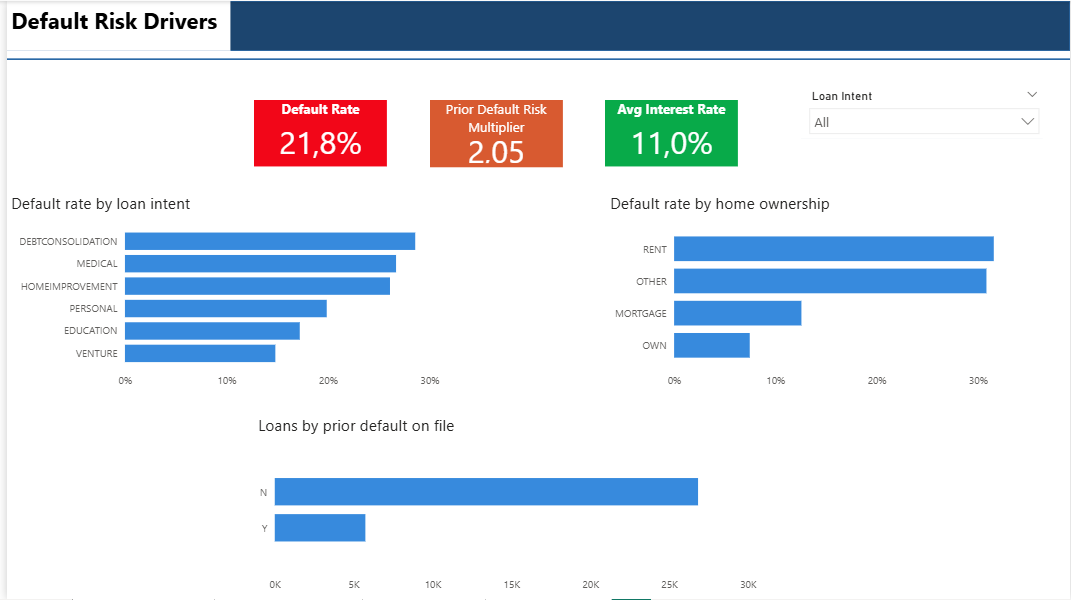

The page's visual inventory and layout, read from the dashboard file:
{"tool":"powerbi","page":{"name":"Default Risk Drivers","canvas":[1280,720],"ordinal":1},"visuals":[{"type":"shape","box":[955.8,100.8,290.6,63.8],"z":0},{"type":"shape","box":[0,0,1280,60],"z":1000},{"type":"textbox","box":[0,0,269.3,60.2],"z":2000},{"type":"shape","box":[0,60.2,1280,19.7],"z":3000},{"type":"barChart","title":"Default rate  by loan intent","fields":{"Y":["_Measures.Default Rate %"],"Category":["loans.Loan Intent"]},"box":[0,230.1,525.8,245.2],"z":4000},{"type":"barChart","title":"Default rate  by home ownership","fields":{"Y":["_Measures.Default Rate %"],"Category":["loans.Home Ownership"]},"box":[720.6,230.1,525.8,245.2],"z":5000},{"type":"clusteredBarChart","title":"Loans by prior default on file","fields":{"Category":["loans.Prior Default on File"],"Y":["_Measures.Total Loans"]},"box":[297.3,497.2,609.8,223.4],"z":6000},{"type":"card","title":"Prior Default Risk Multiplier","fields":{"Values":["_Measures.Prior Default Risk Multiplier"]},"box":[508.9,118.7,159.6,80.6],"z":7000},{"type":"slicer","fields":{"Values":["loans.Loan Intent"]},"box":[955.8,100.8,297.3,63.8],"z":8000},{"type":"card","title":"Default Rate","fields":{"Values":["_Measures.Default Rate %"]},"box":[297.3,118.7,160,80],"z":8001},{"type":"card","title":"Avg Interest Rate","fields":{"Values":["_Measures.Avg Interest Rate"]},"box":[720,118.7,160,80],"z":8002}]}

Visuals, with their boxes in screenshot pixels (x1, y1, x2, y2), scaled from the page's 1280x720 canvas onto the 1071x600 screenshot:
shape: {"x1": 800, "y1": 84, "x2": 1043, "y2": 137}
shape: {"x1": 0, "y1": 0, "x2": 1070, "y2": 50}
textbox: {"x1": 0, "y1": 0, "x2": 225, "y2": 50}
shape: {"x1": 0, "y1": 50, "x2": 1070, "y2": 67}
"Default rate  by loan intent" barChart: {"x1": 0, "y1": 192, "x2": 440, "y2": 396}
"Default rate  by home ownership" barChart: {"x1": 603, "y1": 192, "x2": 1043, "y2": 396}
"Loans by prior default on file" clusteredBarChart: {"x1": 249, "y1": 414, "x2": 759, "y2": 599}
"Prior Default Risk Multiplier" card: {"x1": 426, "y1": 99, "x2": 559, "y2": 166}
slicer - loans.Loan Intent: {"x1": 800, "y1": 84, "x2": 1048, "y2": 137}
"Default Rate" card: {"x1": 249, "y1": 99, "x2": 383, "y2": 166}
"Avg Interest Rate" card: {"x1": 602, "y1": 99, "x2": 736, "y2": 166}
